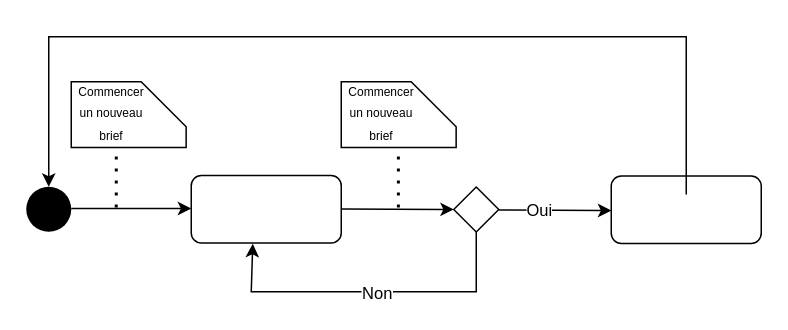
The diagram is 788 pixels wide and 330 high, and some of its shapes have lost their labels. Each missing label, with the centre of its shape:
Brief: point (265, 208)
Brief Validé: point (685, 208)
